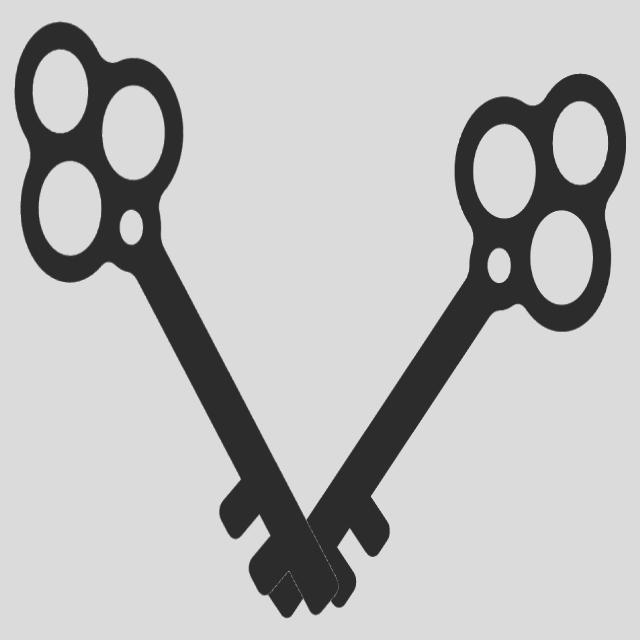key: (244, 72, 633, 634), (6, 17, 350, 630)
